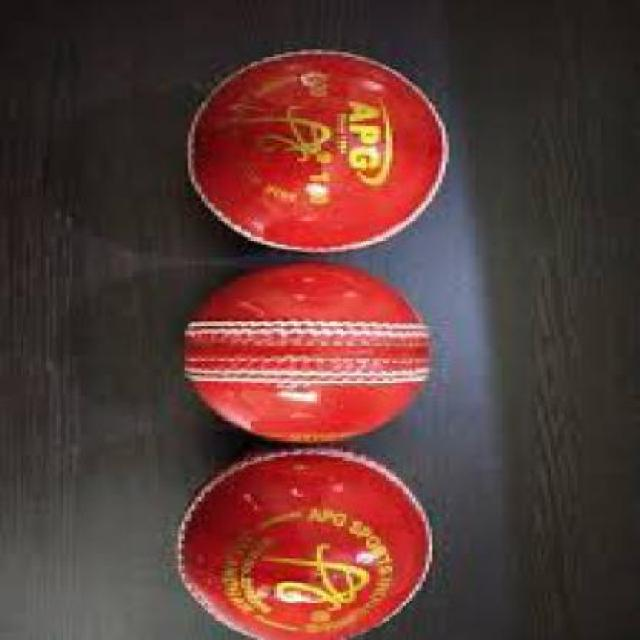ball: (150, 28, 464, 274)
